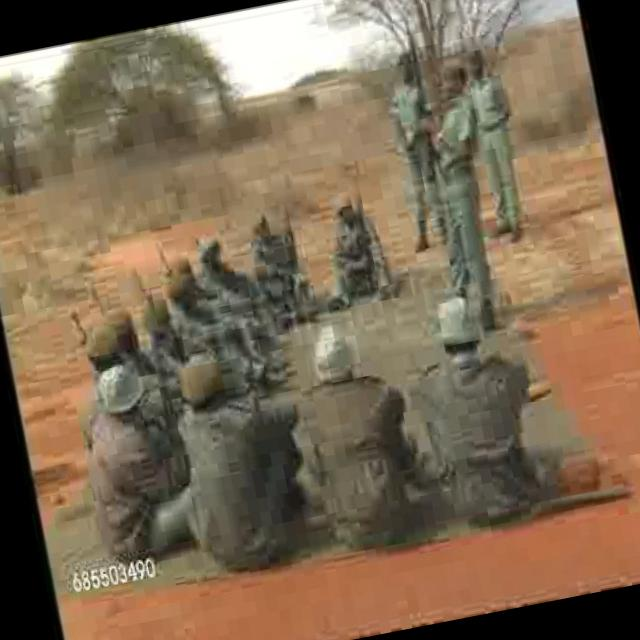ranger: (356, 4, 554, 329), (48, 328, 268, 542), (360, 302, 550, 544)
